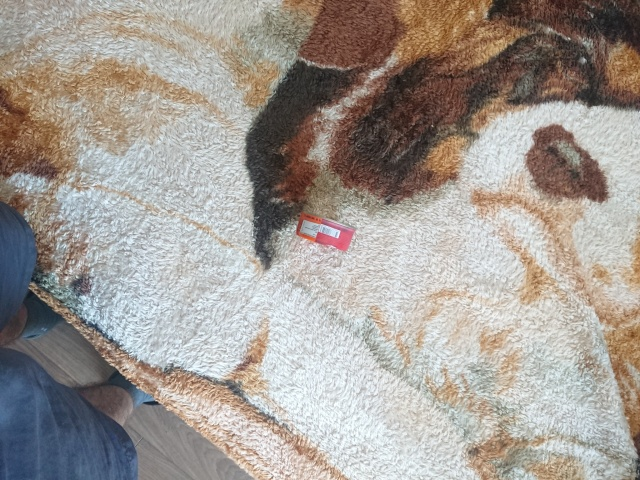Gavrilovic Pork Liver Pate 100g: (294, 208, 357, 252)
